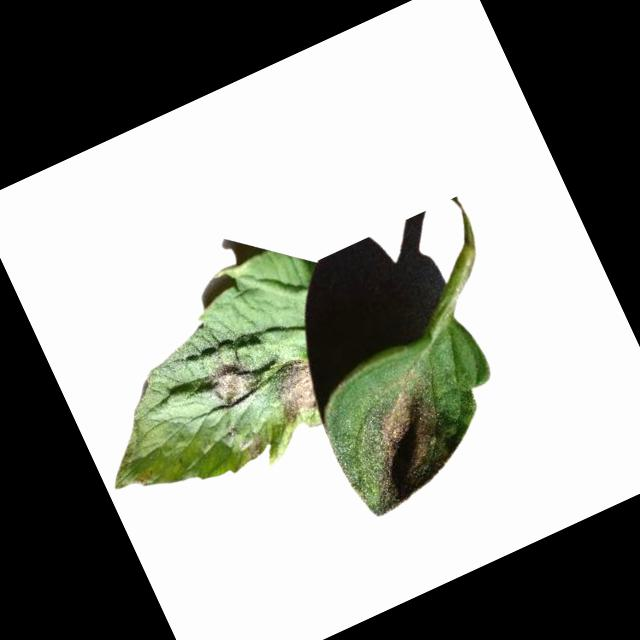Late_blight: (340, 378, 468, 514), (262, 351, 328, 425), (201, 347, 270, 415), (234, 426, 270, 465), (133, 468, 160, 492)
